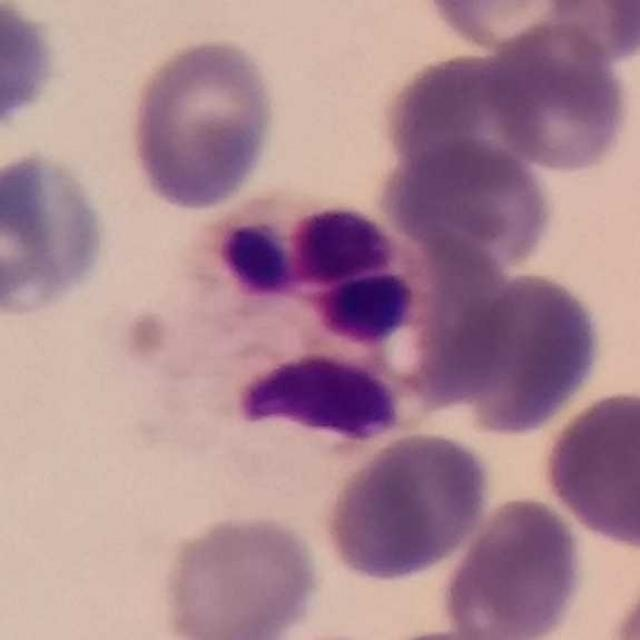Neutrophil: (142, 188, 452, 468)
RBC: (122, 33, 282, 214), (443, 268, 609, 438), (318, 428, 496, 586), (480, 18, 636, 178), (380, 47, 551, 189), (378, 136, 558, 268), (156, 507, 325, 640), (438, 492, 589, 640), (0, 143, 114, 324), (537, 385, 640, 553), (420, 0, 613, 56), (0, 0, 62, 136), (537, 0, 640, 69), (604, 556, 639, 640), (404, 622, 550, 640)
